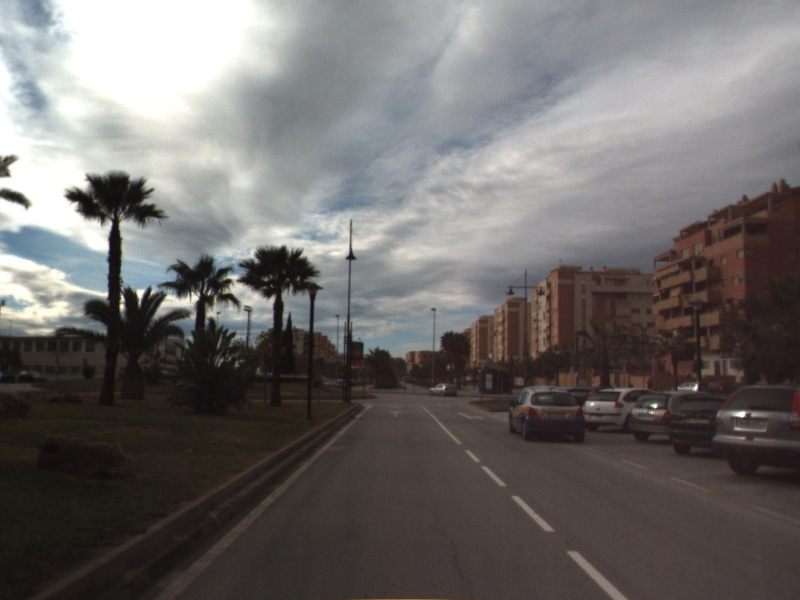STRAIGHT: (388, 409, 405, 419)
STRAIGHT_RIGHT: (455, 410, 486, 421)
